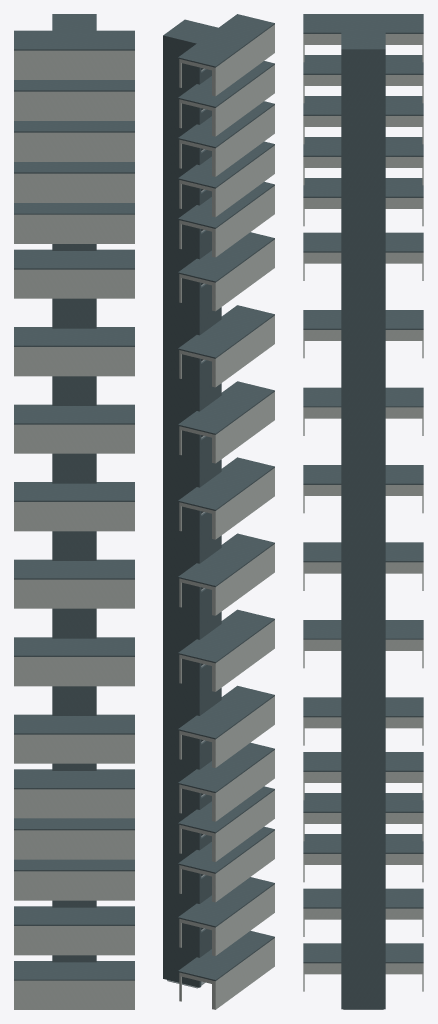
Rendered from AST-STF-G3-034.glb.
3 renders of one model, left to right at view 1: azimuth 90°, elevation 25°; view 2: azimuth 150°, elevation 25°; view 3: azimuth 270°, elevation 25°, orthographic.
Visible parts, largest first — view 1: lobby_wall_staff_white_paint_y0, lobby_wall_staff_white_paint_y2, lobby_wall_staff_white_paint_y11, lobby_wall_staff_white_paint_y12, overhead_staff_bluegrey_paint_y3, overhead_staff_bluegrey_paint_y1, overhead_staff_bluegrey_paint_y10, lobby_wall_staff_white_paint_y1, lobby_wall_staff_white_paint_y3, lobby_wall_staff_white_paint_y4, lobby_wall_staff_white_paint_y5, lobby_wall_staff_white_paint_y6 (+23 smaller); view 2: overhead_staff_bluegrey_paint_y3, lobby_wall_staff_white_paint_y2, lobby_wall_staff_white_paint_y11, lobby_wall_staff_white_paint_y12, lobby_wall_staff_white_paint_y0, overhead_staff_bluegrey_paint_y1, overhead_staff_bluegrey_paint_y10, shaft_architecture_staff_bluegrey_paint_y7, shaft_architecture_staff_bluegrey_paint_y5, overhead_staff_bluegrey_paint_y13, shaft_architecture_staff_bluegrey_paint_y9, shaft_architecture_staff_bluegrey_paint_y4 (+28 smaller); view 3: shaft_architecture_staff_bluegrey_paint_y0, shaft_architecture_staff_bluegrey_paint_y1, shaft_architecture_staff_bluegrey_paint_y2, shaft_architecture_staff_bluegrey_paint_y3, shaft_architecture_staff_bluegrey_paint_y4, shaft_architecture_staff_bluegrey_paint_y5, shaft_architecture_staff_bluegrey_paint_y10, shaft_architecture_staff_bluegrey_paint_y11, shaft_architecture_staff_bluegrey_paint_y12, shaft_architecture_staff_bluegrey_paint_y6, shaft_architecture_staff_bluegrey_paint_y7, shaft_architecture_staff_bluegrey_paint_y8 (+28 smaller).
Part boxes in pixels (x1,y1,x2,y2): lobby_wall_staff_white_paint_y0: (14, 926, 134, 1009); lobby_wall_staff_white_paint_y2: (14, 789, 134, 859); lobby_wall_staff_white_paint_y11: (14, 132, 134, 202); lobby_wall_staff_white_paint_y12: (14, 50, 134, 120); overhead_staff_bluegrey_paint_y3: (14, 714, 134, 789); overhead_staff_bluegrey_paint_y1: (14, 859, 134, 925); overhead_staff_bluegrey_paint_y10: (14, 203, 134, 269); lobby_wall_staff_white_paint_y1: (14, 871, 134, 900); lobby_wall_staff_white_paint_y3: (14, 734, 134, 763); lobby_wall_staff_white_paint_y4: (14, 657, 134, 686); lobby_wall_staff_white_paint_y5: (14, 579, 134, 608); lobby_wall_staff_white_paint_y6: (14, 502, 134, 531); overhead_staff_bluegrey_paint_y3: (178, 685, 274, 792); lobby_wall_staff_white_paint_y2: (179, 750, 274, 861); lobby_wall_staff_white_paint_y11: (179, 105, 274, 217); lobby_wall_staff_white_paint_y12: (179, 24, 274, 136); lobby_wall_staff_white_paint_y0: (179, 884, 274, 1009); overhead_staff_bluegrey_paint_y1: (178, 826, 274, 927); overhead_staff_bluegrey_paint_y10: (178, 181, 274, 282); shaft_architecture_staff_bluegrey_paint_y7: (163, 360, 221, 486); shaft_architecture_staff_bluegrey_paint_y5: (163, 512, 221, 629); overhead_staff_bluegrey_paint_y13: (163, 14, 274, 67); shaft_architecture_staff_bluegrey_paint_y9: (163, 234, 221, 340); shaft_architecture_staff_bluegrey_paint_y4: (163, 588, 221, 700); shaft_architecture_staff_bluegrey_paint_y0: (341, 936, 385, 1009); shaft_architecture_staff_bluegrey_paint_y1: (341, 863, 385, 936); shaft_architecture_staff_bluegrey_paint_y2: (341, 790, 385, 863); shaft_architecture_staff_bluegrey_paint_y3: (341, 717, 385, 790); shaft_architecture_staff_bluegrey_paint_y4: (341, 644, 385, 717); shaft_architecture_staff_bluegrey_paint_y5: (341, 571, 385, 644); shaft_architecture_staff_bluegrey_paint_y10: (341, 207, 385, 280); shaft_architecture_staff_bluegrey_paint_y11: (341, 134, 385, 207); shaft_architecture_staff_bluegrey_paint_y12: (341, 61, 385, 134); shaft_architecture_staff_bluegrey_paint_y6: (341, 499, 385, 571); shaft_architecture_staff_bluegrey_paint_y7: (341, 426, 385, 498); shaft_architecture_staff_bluegrey_paint_y8: (341, 353, 385, 425).
Size of the model in its own units: 8.32 by 106 by 12.
Materials: 4 (4 with a texture image).
